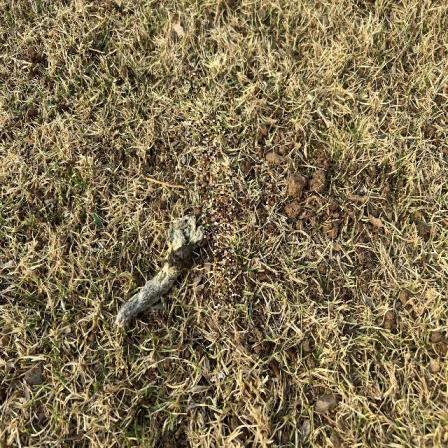dog-poop: (112, 220, 206, 330)
